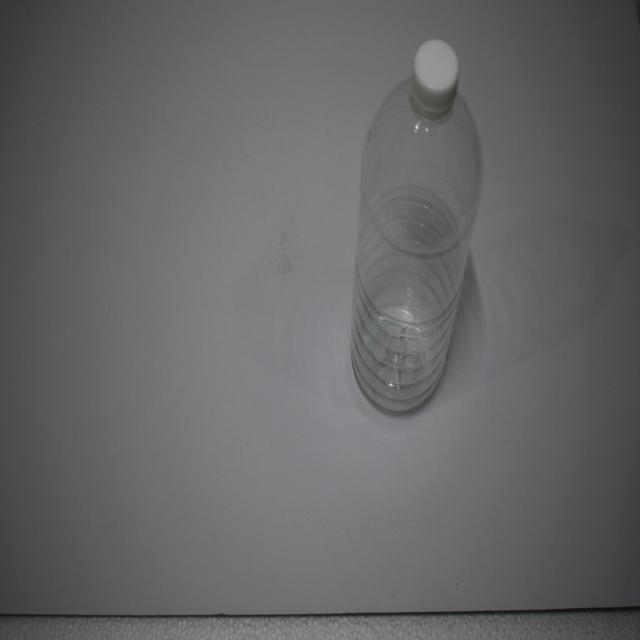bottle: (348, 37, 493, 422)
